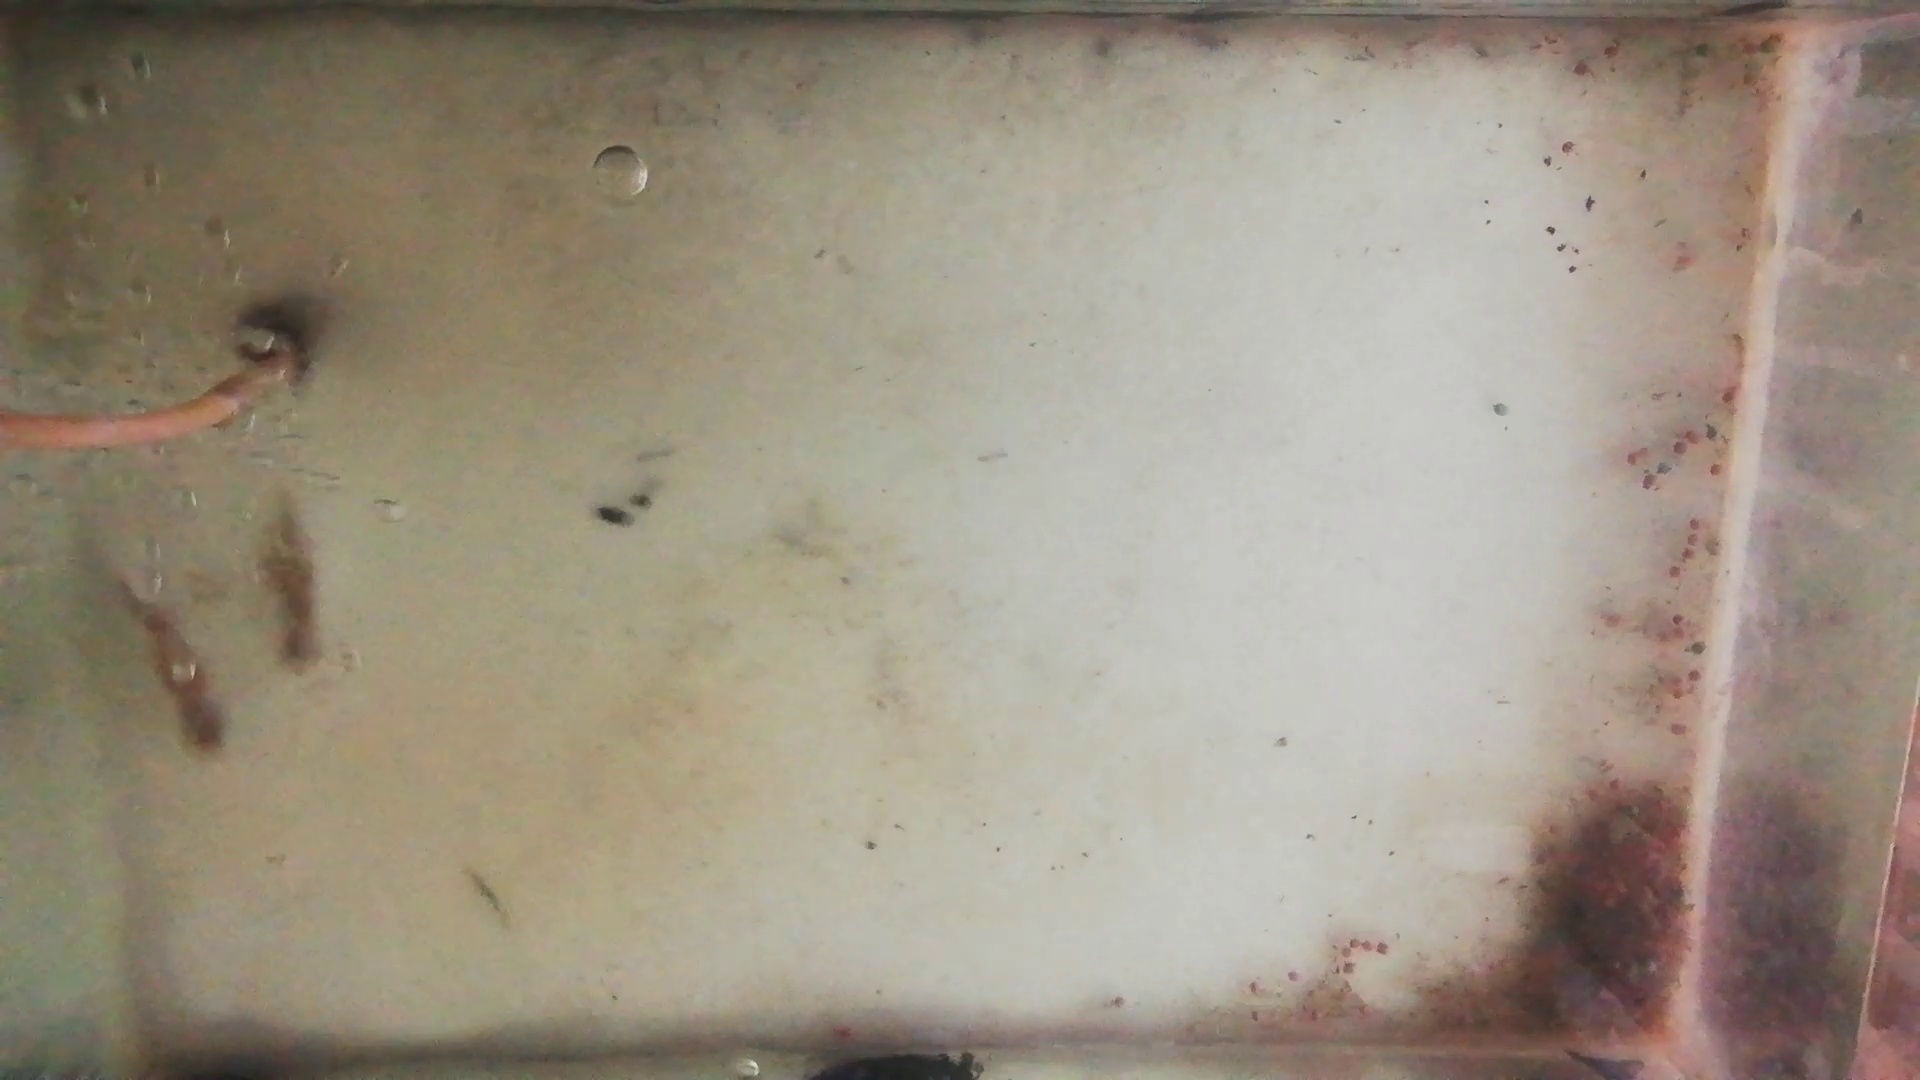fish: (115, 574, 233, 753), (266, 487, 324, 674)
